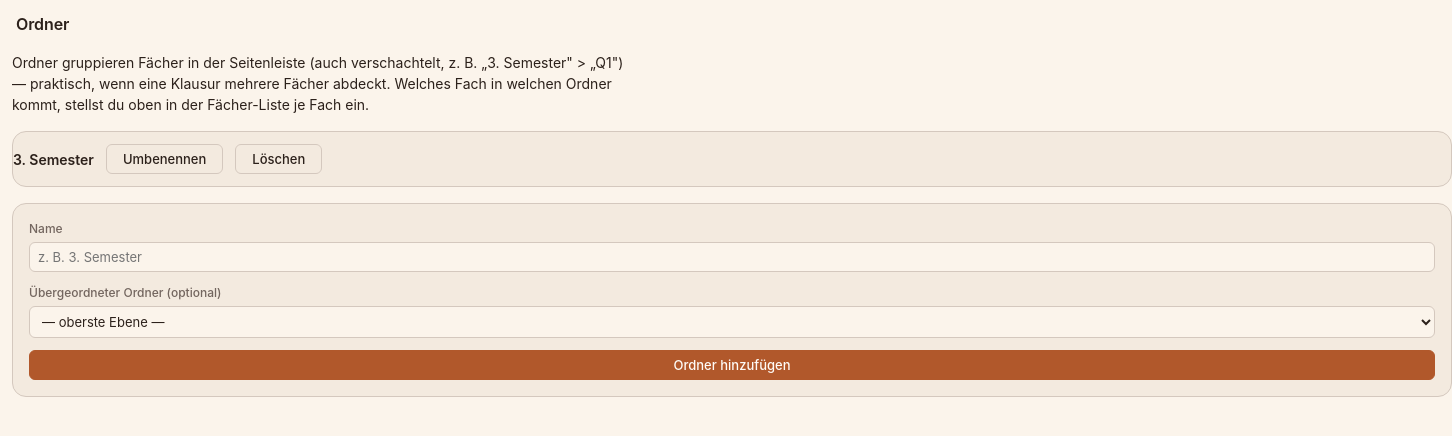
CourseGroups › benennt einen Ordner um, mit Esc zum Abbrechen
Click the button "Umbenennen" at (165, 159), box [106,144,223,174]
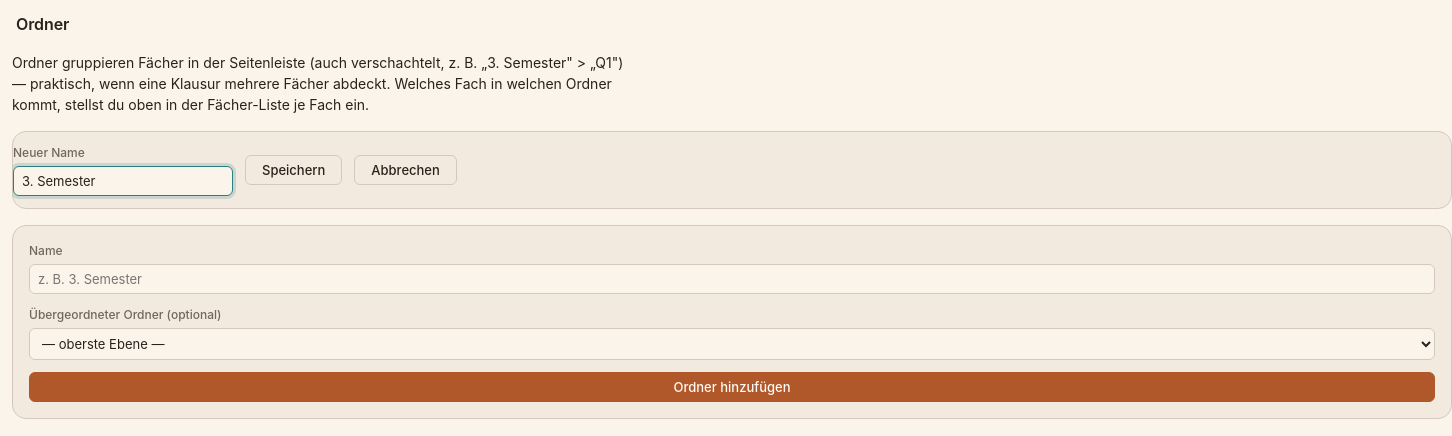
Replace the text in the field labelled "Neuer Name" with "Q1" at (123, 181), box [13,166,233,196]
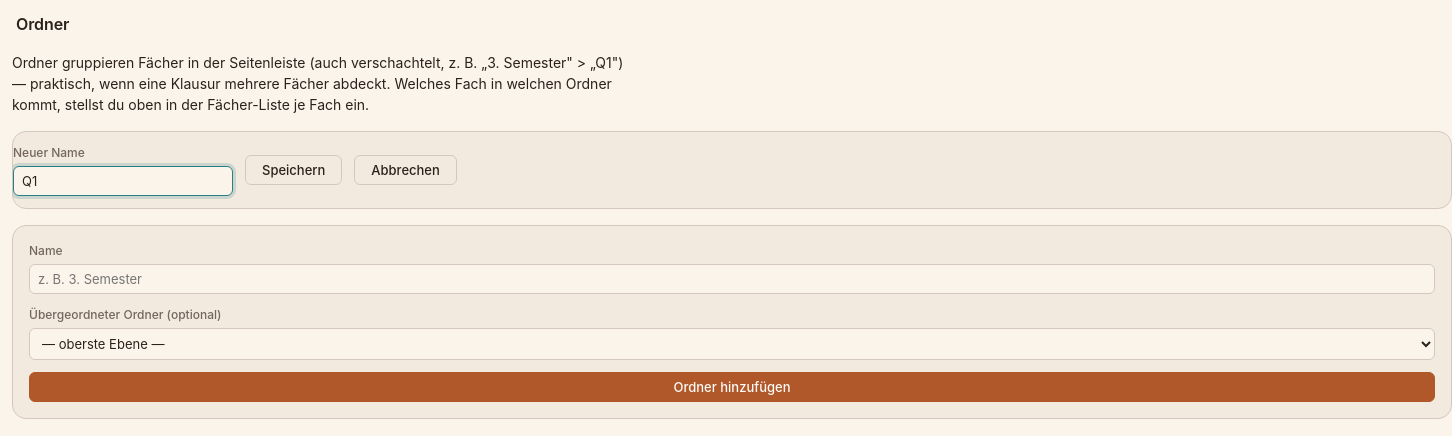
Press Escape
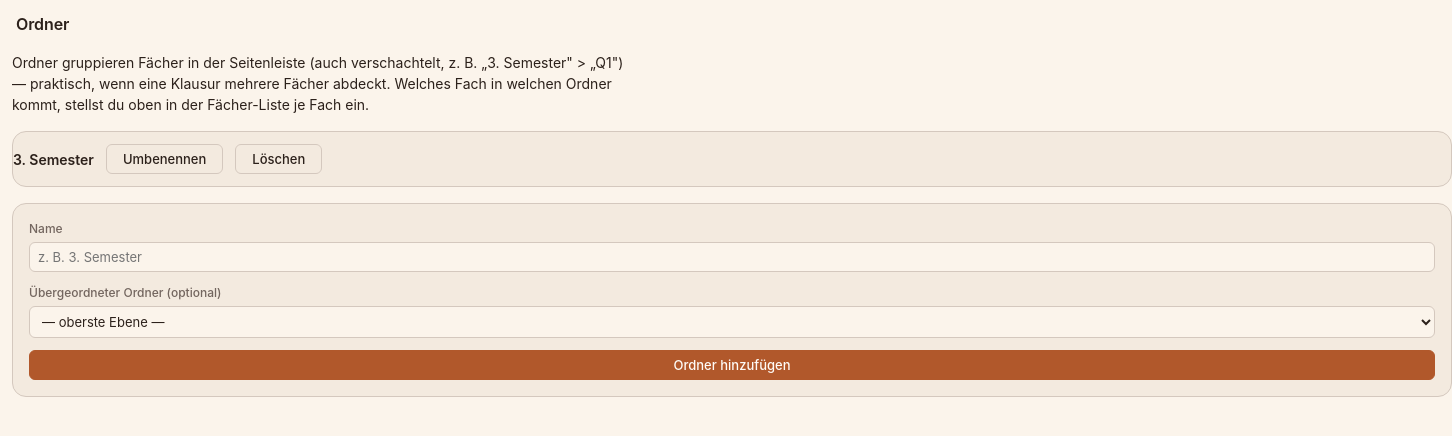
Expected: the label labelled "Neuer Name" is gone
